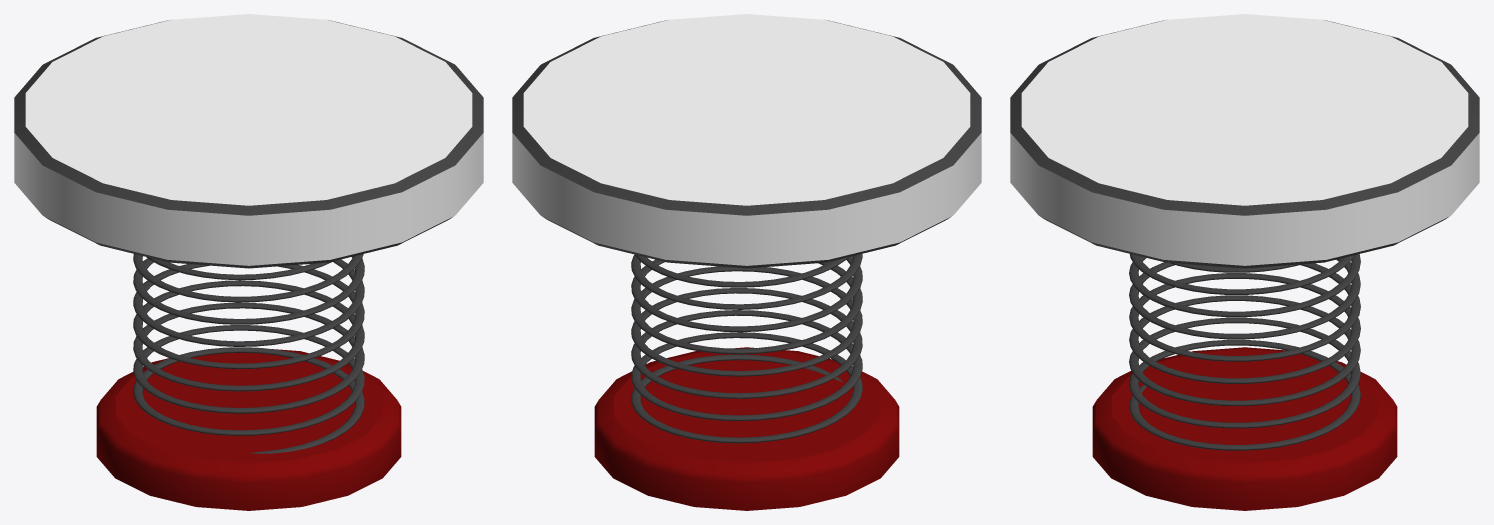
File: PlateStation.fbx
3 views of the same model, side by side, from view 1: azimuth 30°, elevation 25°; view 2: azimuth 150°, elevation 25°; view 3: azimuth 270°, elevation 25° (orthographic).
Visible parts, largest first — view 1: PlateStation_Top, PlateStation_Base, PlateStation_Spring; view 2: PlateStation_Top, PlateStation_Base, PlateStation_Spring; view 3: PlateStation_Top, PlateStation_Base, PlateStation_Spring.
Boxes of the visible parts, bbox=[...] form: PlateStation_Top: bbox=[14, 14, 483, 268]; PlateStation_Base: bbox=[96, 347, 401, 510]; PlateStation_Spring: bbox=[133, 254, 364, 453]; PlateStation_Top: bbox=[512, 14, 981, 268]; PlateStation_Base: bbox=[594, 347, 899, 510]; PlateStation_Spring: bbox=[631, 254, 862, 443]; PlateStation_Top: bbox=[1010, 14, 1479, 268]; PlateStation_Base: bbox=[1092, 347, 1397, 510]; PlateStation_Spring: bbox=[1129, 254, 1360, 450].
Bounding box in the file's own units: 1.5 × 1.17 × 1.48.
